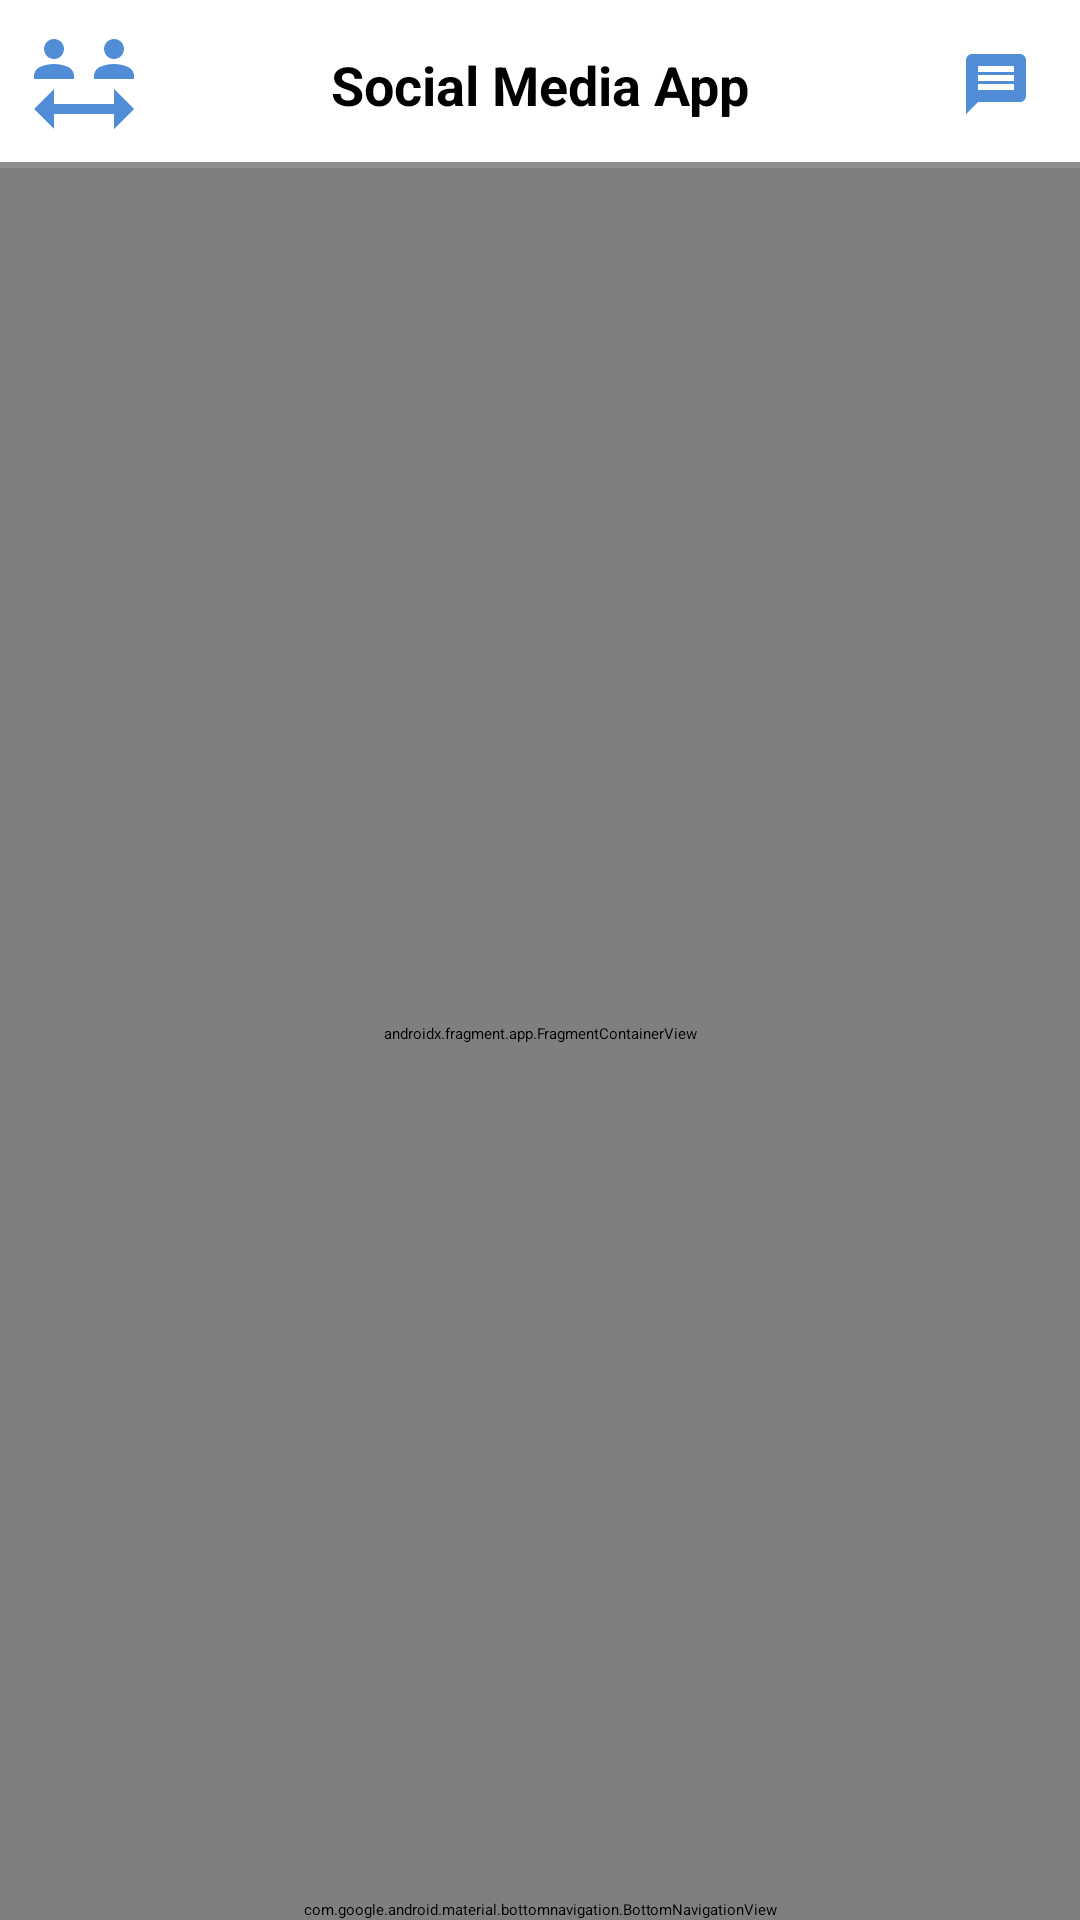

Screen size 1080x1920. Icon name, then its center in pixels as (x,y):
App message icon: (996,84)
